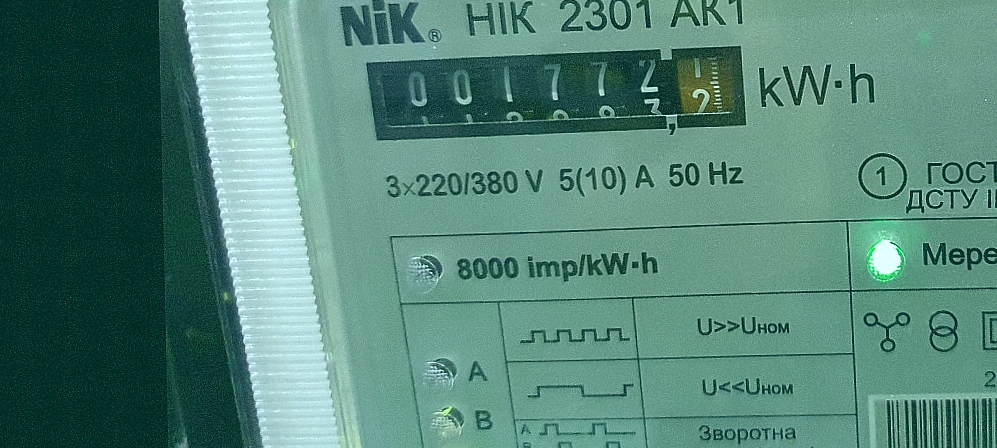0: (401, 67, 430, 108), (449, 65, 473, 105)
1: (498, 63, 515, 102), (689, 55, 703, 81)
2: (635, 57, 659, 94), (687, 85, 710, 114)
3: (641, 95, 663, 117)
7: (540, 61, 564, 102), (587, 59, 609, 98)
screen: (353, 34, 763, 151)
